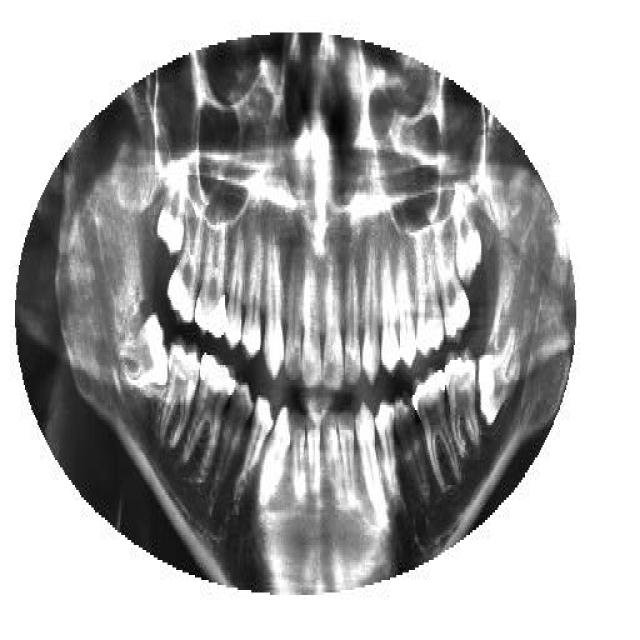Impacted Tooth: (475, 325, 523, 427), (119, 312, 170, 392), (452, 200, 483, 285), (156, 182, 186, 260)
